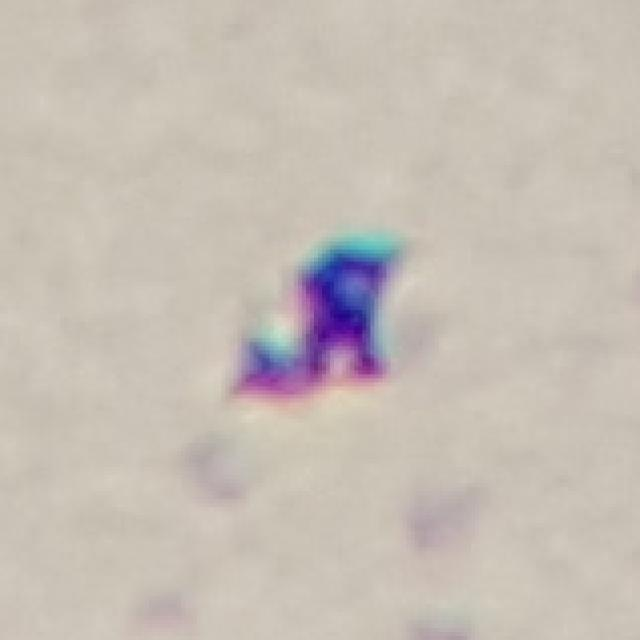non-sperm: (186, 217, 423, 432)
